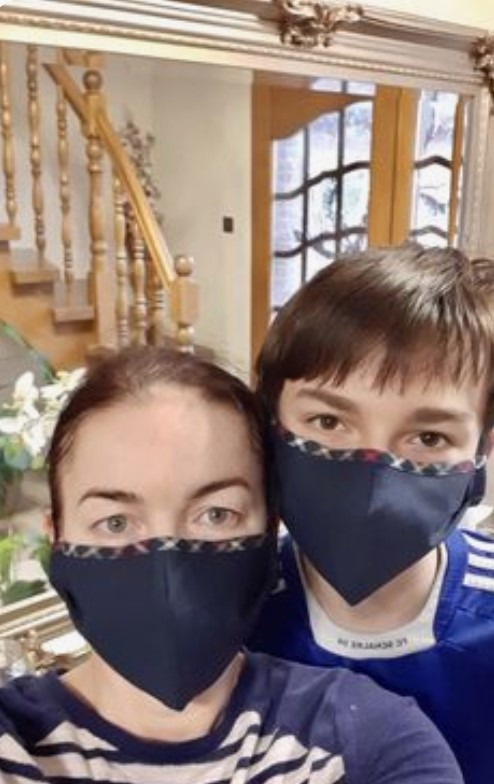face_with_mask: (43, 347, 281, 717), (263, 246, 491, 604)
